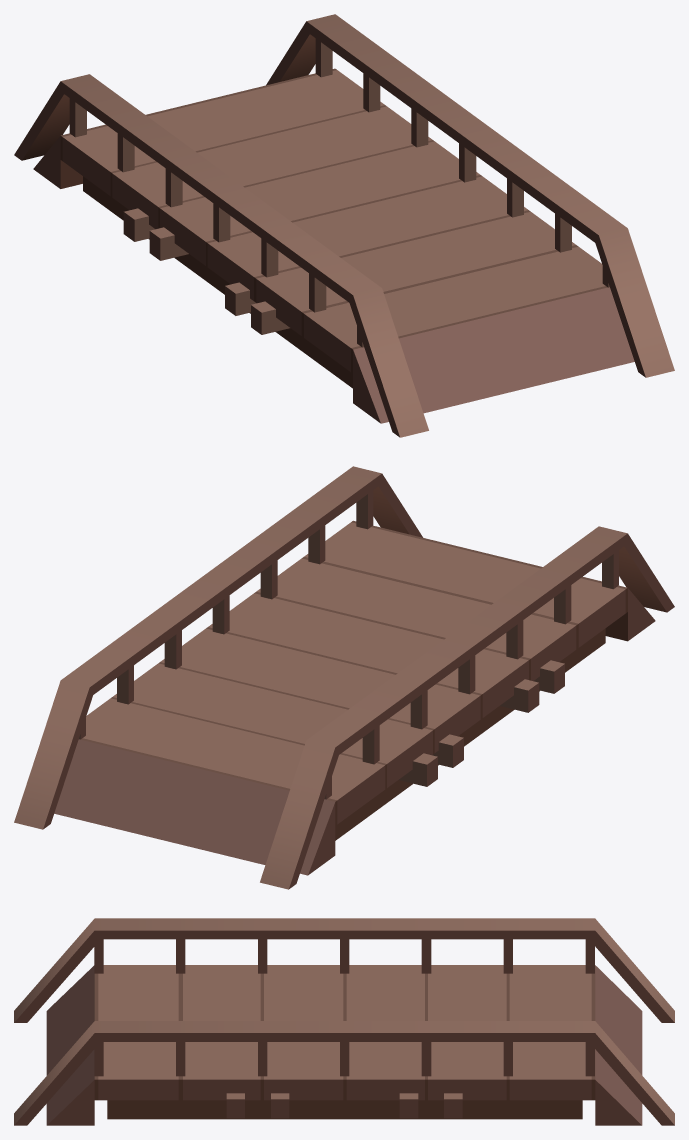
File: SF_Bld_Elven_Bridge_02.fbx
3 views of the same model, one above another, from view 1: azimuth 30°, elevation 25°; view 2: azimuth 150°, elevation 25°; view 3: azimuth 270°, elevation 25° (orthographic). The views are drawn at different scales.
Parts seen in each view (by area): view 1: SF_Bld_Elven_Bridge_02; view 2: SF_Bld_Elven_Bridge_02; view 3: SF_Bld_Elven_Bridge_02.
Boxes of the visible parts, x1,y1,x2,y2 form: SF_Bld_Elven_Bridge_02: (14, 14, 674, 437); SF_Bld_Elven_Bridge_02: (14, 466, 674, 889); SF_Bld_Elven_Bridge_02: (14, 918, 674, 1125).
Bounding box in the file's own units: 7.38 × 2.51 × 16.28.
